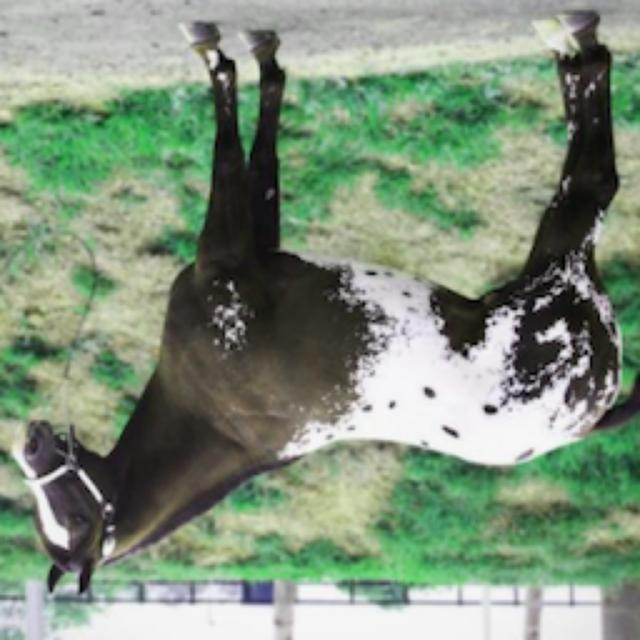Horse: (5, 5, 638, 603)
